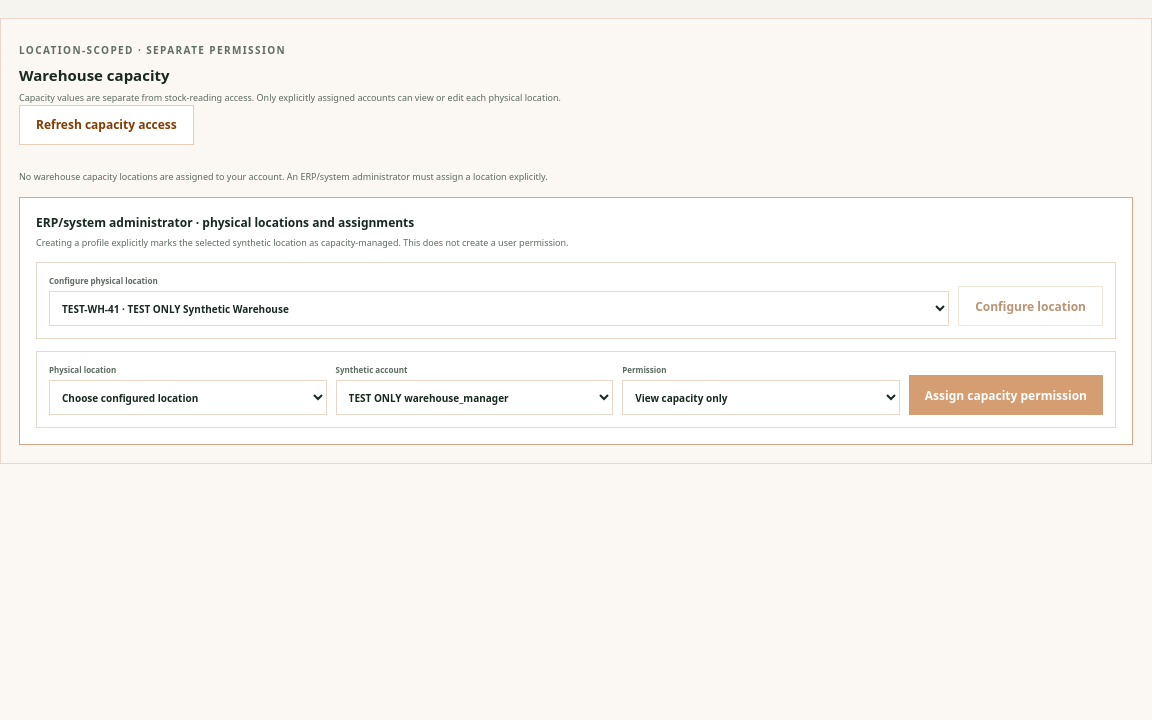
Test: system administrator can designate synthetic physical locations and assign/revoke per-location access
Select "TEST-WH-41 · TEST ONLY Synthetic Warehouse" in the dropdown named "Configure physical capacity location" at (499, 309), box [49, 291, 949, 326]
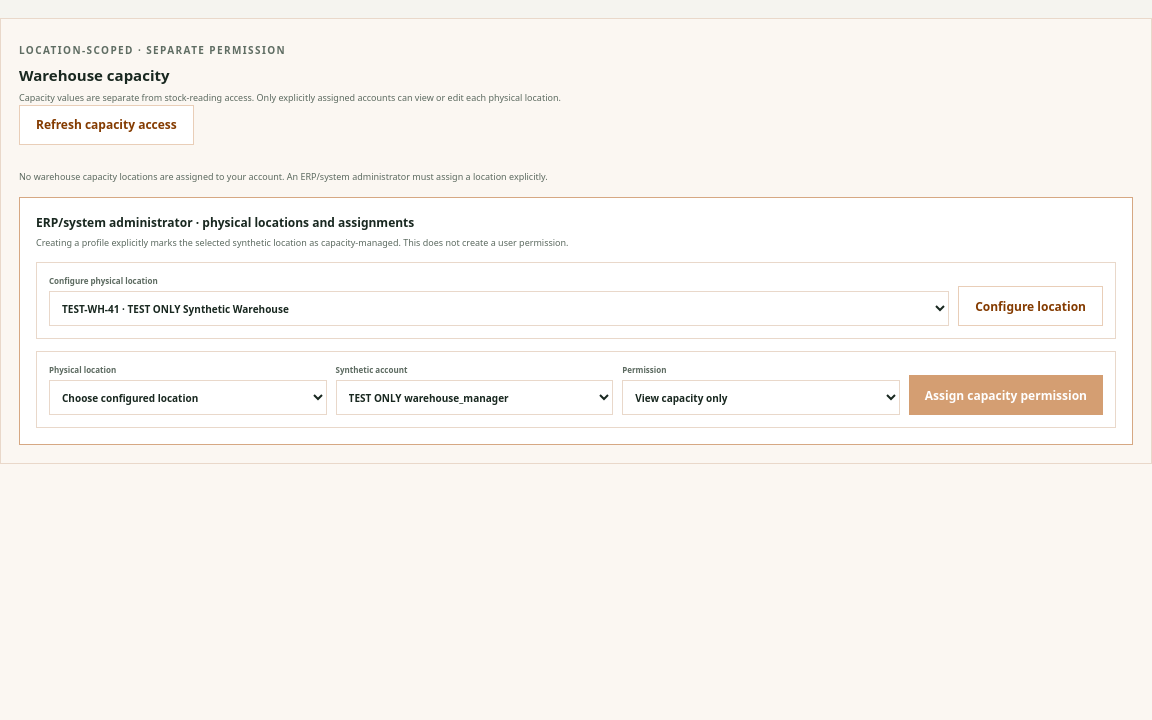
Click the button "Configure location" at (1031, 306), box [958, 286, 1103, 326]
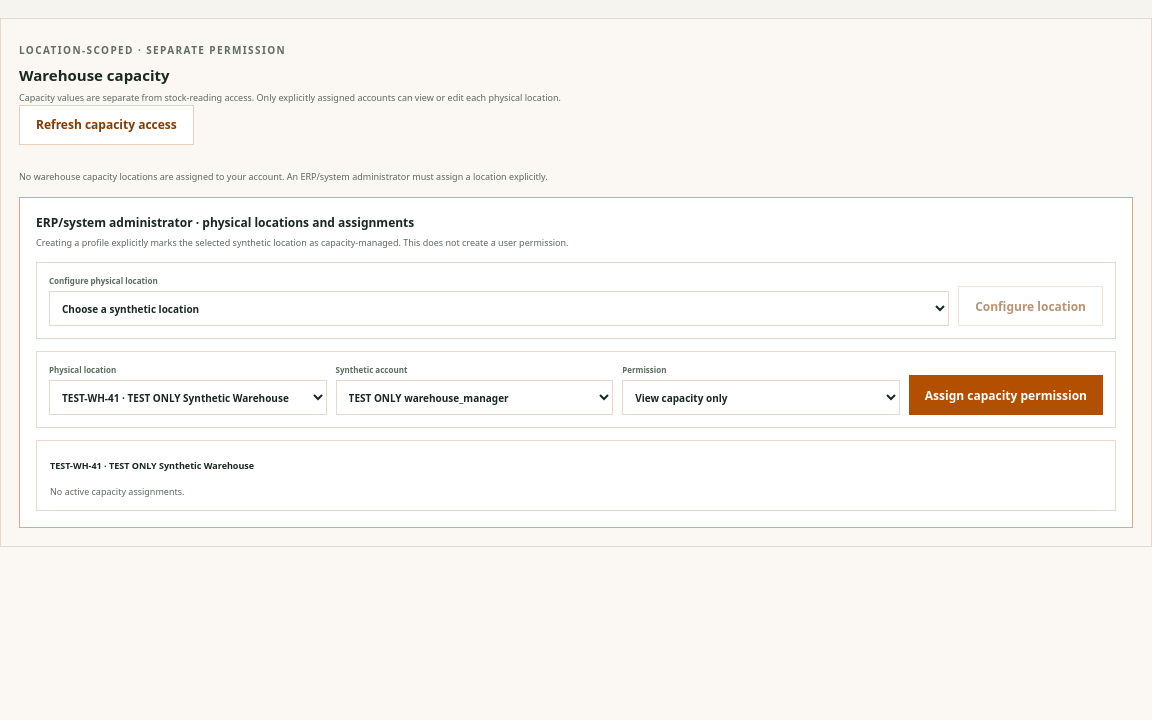
Click the button "Assign capacity permission" at (1006, 395), box [909, 375, 1103, 415]
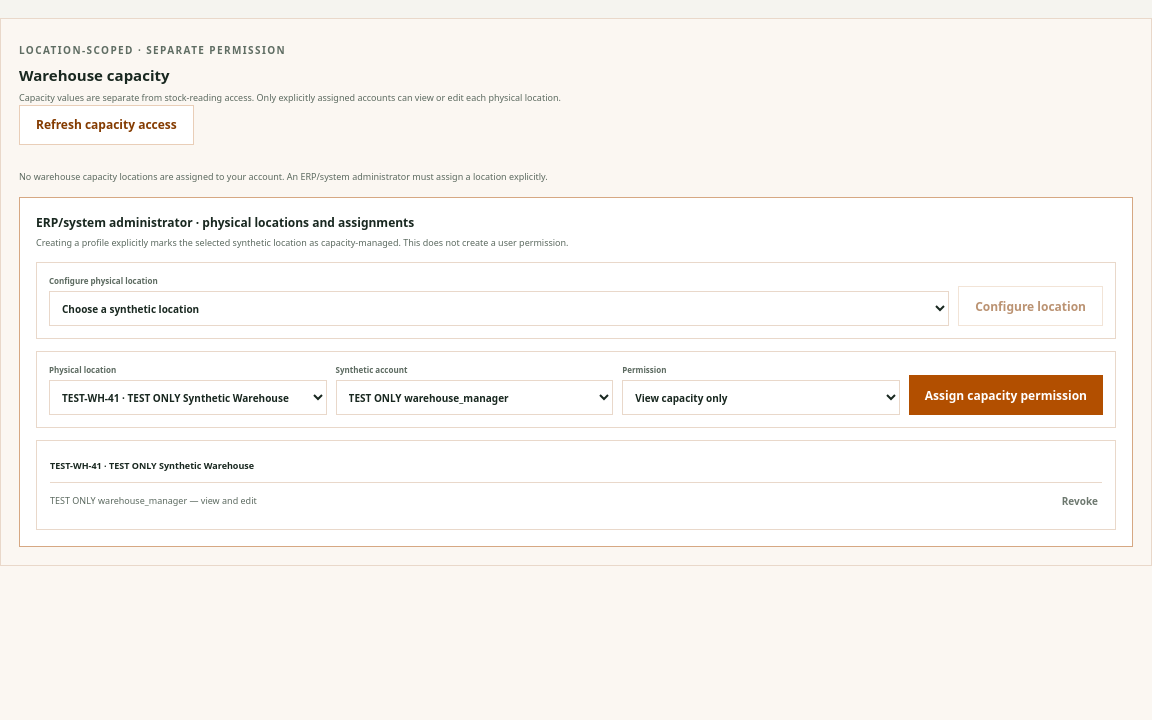
Now the text "TEST ONLY warehouse_manager — view and edit" is shown, box [50, 494, 257, 507]
Now the button "Revoke" is shown
Click the button "Revoke" at (1080, 501), box [1058, 485, 1102, 517]
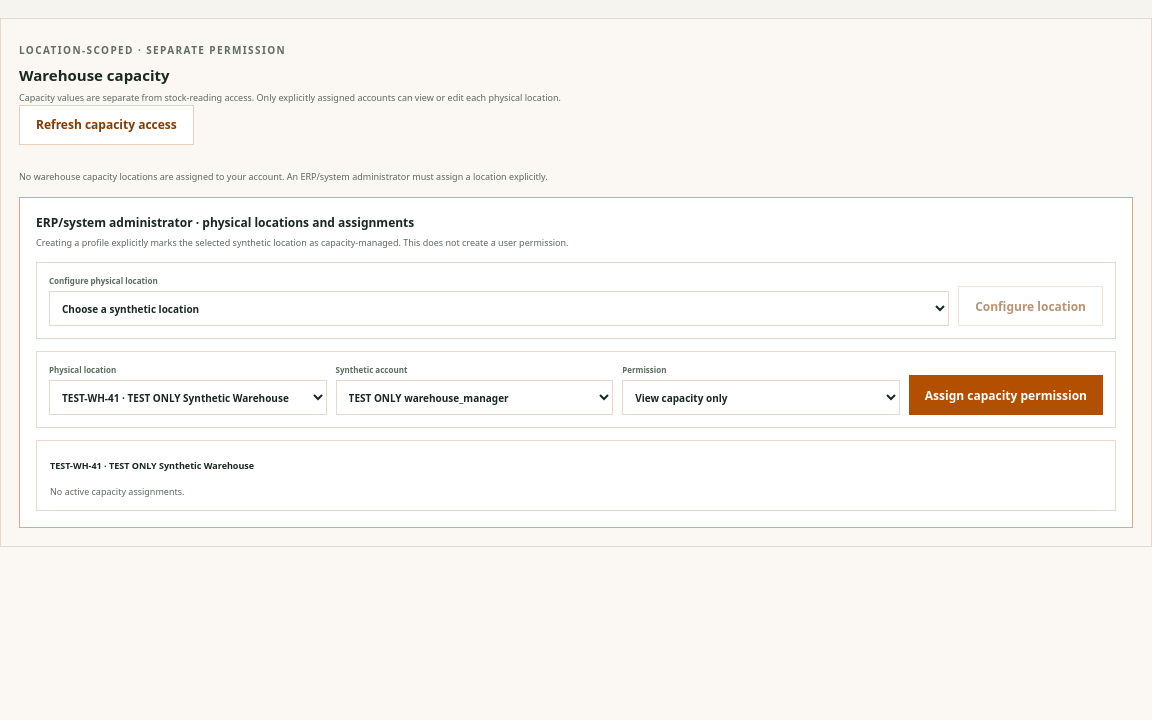
Now the text "No active capacity assignments" is shown, box [50, 485, 184, 498]
